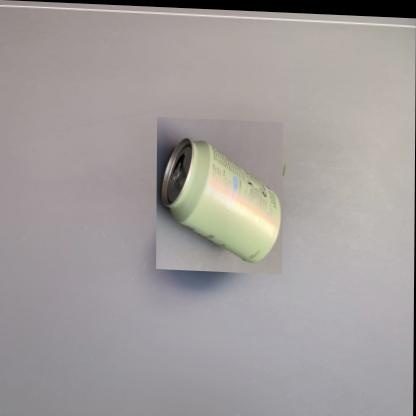trash: (160, 138, 280, 261)
